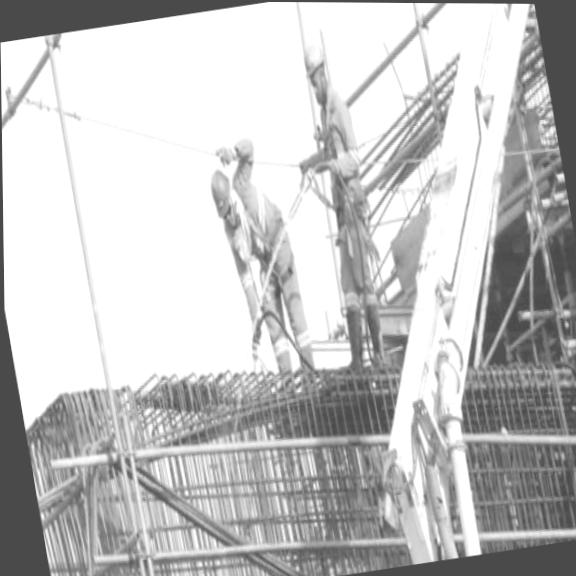safety_vest: (224, 182, 303, 333), (303, 86, 372, 225)
